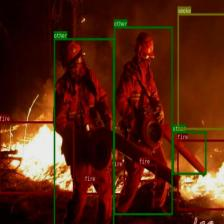fire: (0, 121, 74, 193), (177, 140, 224, 210), (111, 166, 125, 195), (139, 164, 156, 182), (84, 181, 100, 194)
smoke: (177, 13, 224, 129)
